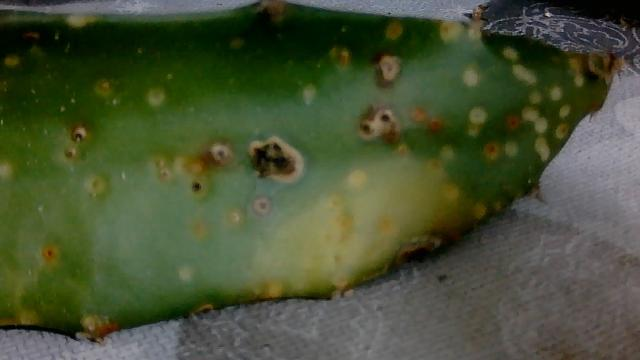stemcanker: (2, 12, 195, 124), (2, 118, 238, 205), (290, 37, 416, 113), (20, 224, 88, 287), (424, 138, 465, 207), (180, 207, 254, 242), (493, 106, 531, 167), (398, 98, 451, 138), (431, 12, 473, 58), (446, 61, 496, 98), (238, 191, 284, 221), (342, 160, 377, 199), (519, 103, 551, 138), (508, 62, 540, 90), (491, 37, 524, 64), (462, 101, 492, 130), (473, 134, 500, 166), (546, 78, 564, 106)
